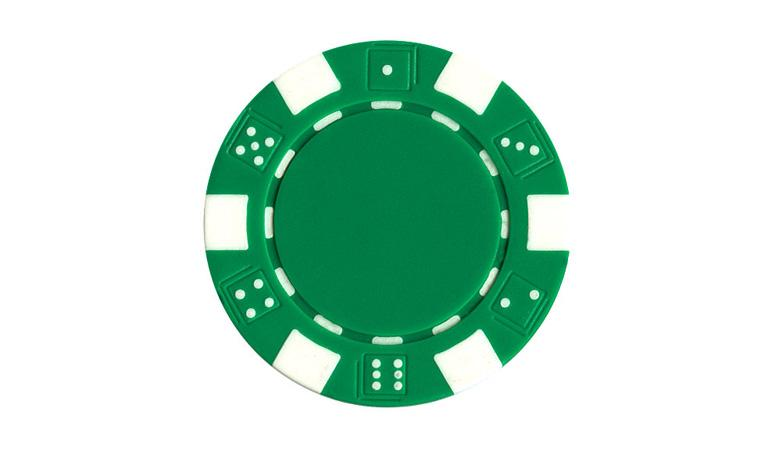chip-green: (204, 41, 568, 407)
